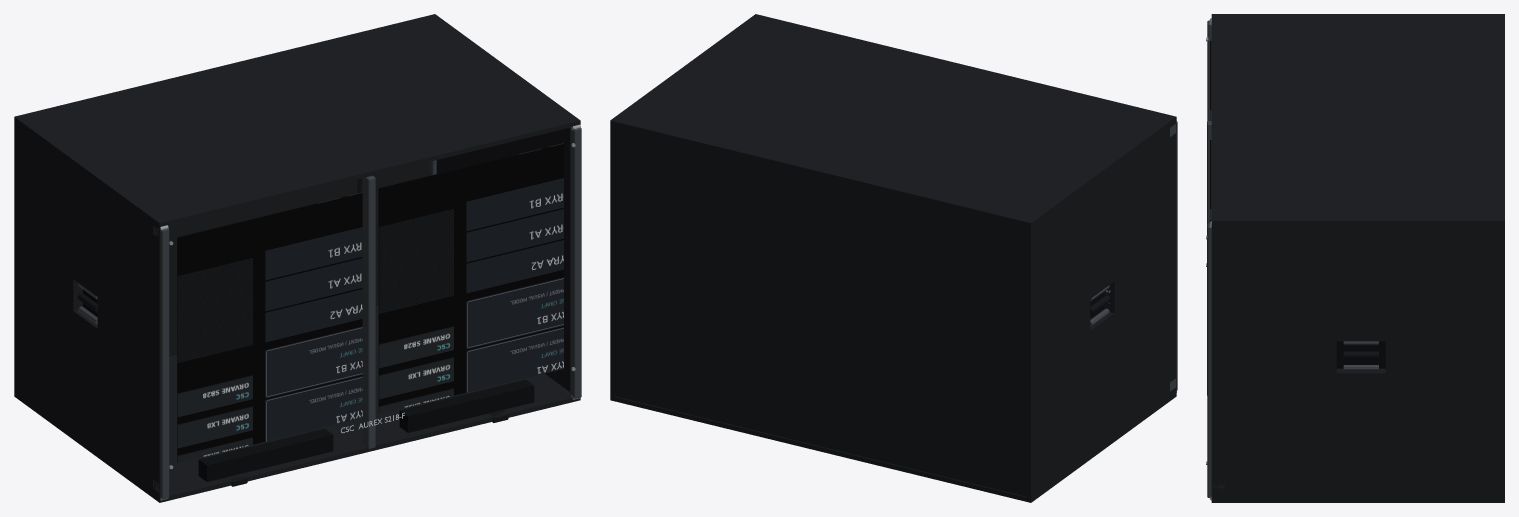
The model's file is csc_aurex_s218_f.glb.
3 views of the same model, side by side, from view 1: azimuth 30°, elevation 25°; view 2: azimuth 150°, elevation 25°; view 3: azimuth 270°, elevation 25° (orthographic).
Parts seen in each view (by area): view 1: Top panel.001, Double eighteen grille half.002, Double eighteen grille half.003, Left panel with genuine carry recess.001, Bottom panel.001, Rear composite panel.001, Right panel with genuine carry recess.001, Front structural divider.001, Front slot reflex port.002, Front slot reflex port.003, Continuous load-bearing rigging strip.006, Continuous load-bearing rigging strip.004; view 2: Rear composite panel.001, Top panel.001, Left panel with genuine carry recess.001, Bottom panel.001, Right panel with genuine carry recess.001; view 3: Right panel with genuine carry recess.001, Top panel.001, Bottom panel.001, Continuous load-bearing rigging strip.006, Recessed handle cup backing.003, Front structural divider.001, Rear composite panel.001, Left panel with genuine carry recess.001, Continuous load-bearing rigging strip.004.
Boxes of the visible parts, x1=… form: Top panel.001: x1=14, y1=14, x2=579, y2=225; Double eighteen grille half.002: x1=177, y1=192, x2=362, y2=462; Double eighteen grille half.003: x1=378, y1=143, x2=563, y2=413; Left panel with genuine carry recess.001: x1=14, y1=115, x2=163, y2=498; Bottom panel.001: x1=14, y1=305, x2=580, y2=502; Rear composite panel.001: x1=14, y1=15, x2=433, y2=355; Right panel with genuine carry recess.001: x1=431, y1=14, x2=580, y2=391; Front structural divider.001: x1=362, y1=175, x2=375, y2=448; Front slot reflex port.002: x1=198, y1=428, x2=333, y2=481; Front slot reflex port.003: x1=399, y1=379, x2=534, y2=432; Continuous load-bearing rigging strip.006: x1=570, y1=127, x2=581, y2=398; Continuous load-bearing rigging strip.004: x1=160, y1=228, x2=169, y2=499; Rear composite panel.001: x1=611, y1=119, x2=1032, y2=496; Top panel.001: x1=610, y1=14, x2=1176, y2=226; Left panel with genuine carry recess.001: x1=1027, y1=115, x2=1176, y2=498; Bottom panel.001: x1=610, y1=392, x2=1176, y2=502; Right panel with genuine carry recess.001: x1=610, y1=14, x2=759, y2=396; Right panel with genuine carry recess.001: x1=1211, y1=219, x2=1504, y2=498; Top panel.001: x1=1211, y1=14, x2=1504, y2=225; Bottom panel.001: x1=1211, y1=368, x2=1504, y2=502; Continuous load-bearing rigging strip.006: x1=1207, y1=223, x2=1211, y2=497; Recessed handle cup backing.003: x1=1336, y1=341, x2=1385, y2=368; Front structural divider.001: x1=1207, y1=121, x2=1211, y2=395; Rear composite panel.001: x1=1501, y1=16, x2=1503, y2=496; Left panel with genuine carry recess.001: x1=1211, y1=14, x2=1504, y2=15; Continuous load-bearing rigging strip.004: x1=1207, y1=20, x2=1211, y2=120.
Bounding box in the file's own units: 1.8 × 1.15 × 1.1.
Materials: 8 (2 with a texture image).
